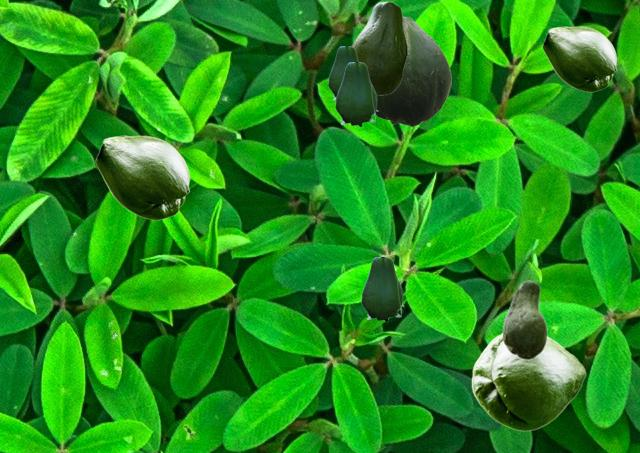sayote: (471, 333, 585, 430), (377, 16, 450, 126), (95, 135, 189, 219), (351, 1, 406, 94), (542, 26, 616, 91), (502, 280, 546, 359), (361, 257, 403, 322), (335, 62, 377, 127), (328, 46, 358, 100)
